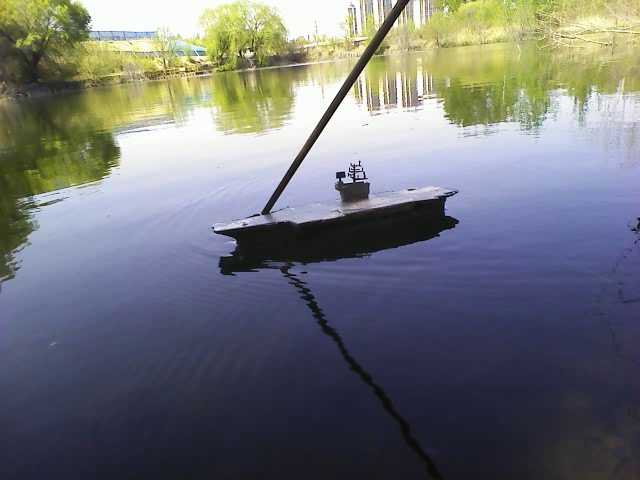aircraft_carrier: (211, 167, 460, 241)
